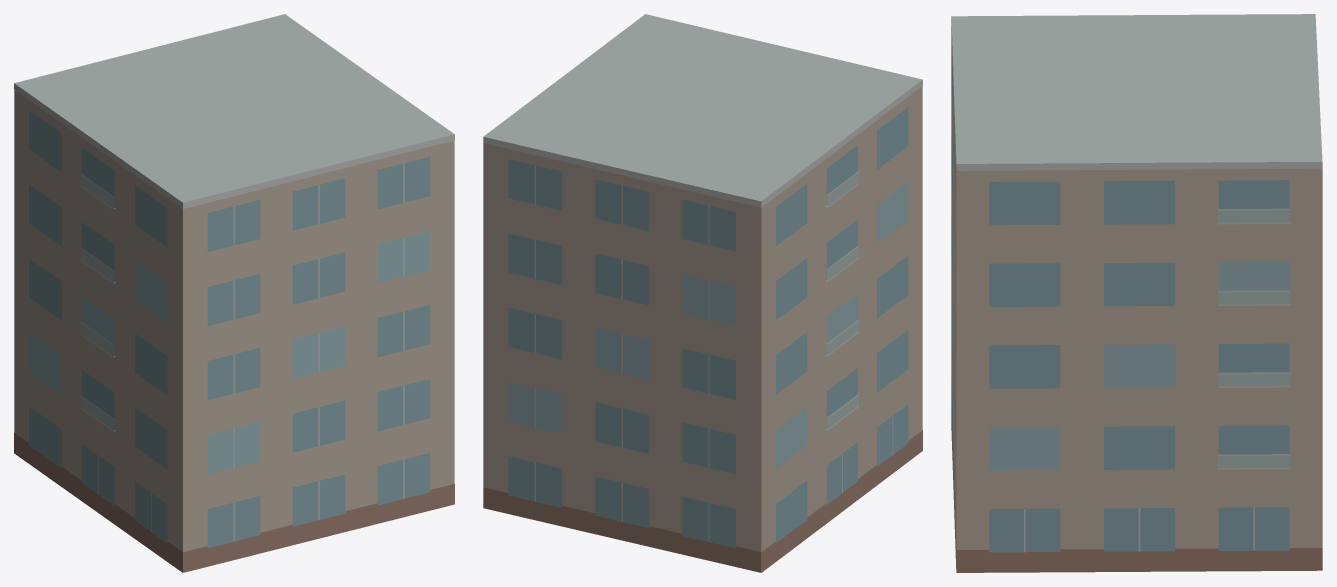
Rendered from survey-upis-33011119.glb.
3 renders of one model, left to right at view 1: azimuth 30°, elevation 25°; view 2: azimuth 150°, elevation 25°; view 3: azimuth 270°, elevation 25°, orthographic. The views are drawn at different scales.
Visible parts, largest first — view 1: survey-upis-33011119.tmp; view 2: survey-upis-33011119.tmp; view 3: survey-upis-33011119.tmp.
Part boxes in pixels (x1,y1,x2,y2): survey-upis-33011119.tmp: [14, 14, 454, 572]; survey-upis-33011119.tmp: [483, 14, 922, 572]; survey-upis-33011119.tmp: [951, 14, 1322, 572].
Size of the model in its own units: 11.38 by 14.45 by 11.89.
